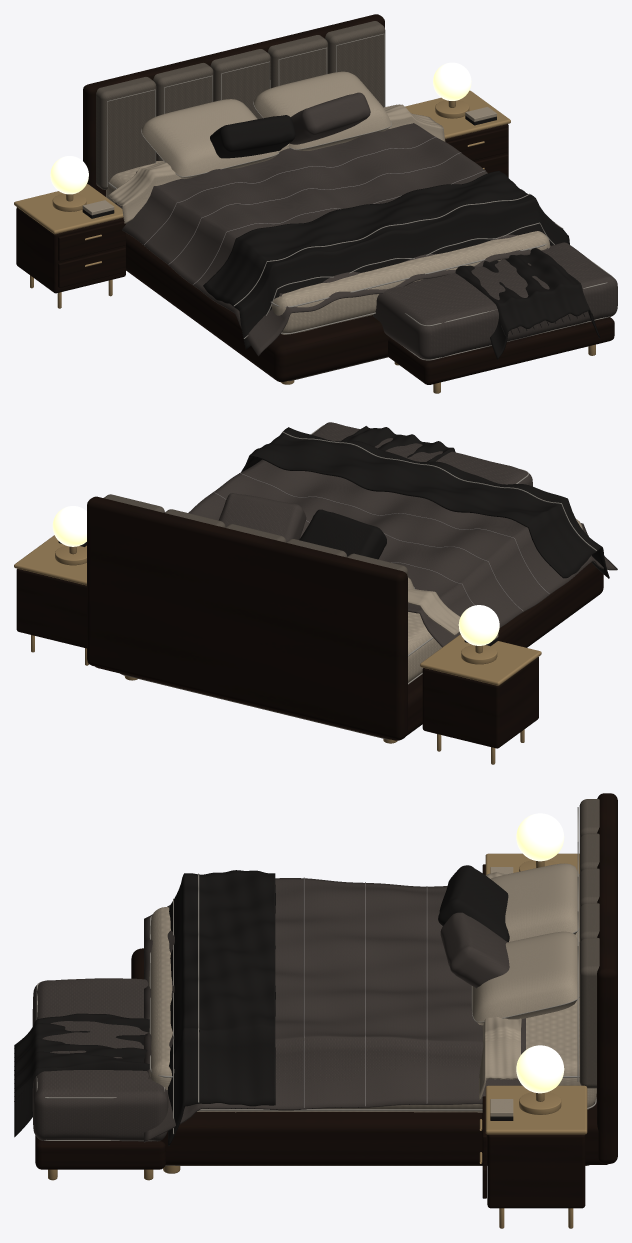
Rendered from premium-bed.glb.
3 views of the same model, one above another, from view 1: azimuth 30°, elevation 25°; view 2: azimuth 150°, elevation 25°; view 3: azimuth 270°, elevation 25° (orthographic). The views are drawn at different scales.
Visible parts, largest first — view 1: Graphite cover with sculpted cross folds, Dark folded knitted runner, Reference foot bench upholstered cushion, Walnut platform, Quilted mattress, Reference foot bench charcoal throw, Large linen pillow 0, Reference foot bench walnut chassis, Vertical tailored headboard panel 0, Large linen pillow 1, Headboard structural backing, Vertical tailored headboard panel 4 (+15 smaller); view 2: Headboard structural backing, Graphite cover with sculpted cross folds, Dark folded knitted runner, Floating bedside walnut cabinet, Walnut platform, Floating bedside walnut cabinet.001, Bedside stone top, Decorative cushion 1, Reference foot bench upholstered cushion, Decorative cushion 0, Bedside stone top.001, Reference foot bench charcoal throw (+7 smaller); view 3: Graphite cover with sculpted cross folds, Dark folded knitted runner, Walnut platform, Reference foot bench upholstered cushion, Quilted mattress, Floating bedside walnut cabinet.001, Headboard structural backing, Large linen pillow 1, Reference foot bench charcoal throw, Large linen pillow 0, Reference foot bench walnut chassis, Bedside stone top.001 (+12 smaller).
Part boxes in pixels (x1=…): Graphite cover with sculpted cross folds: x1=115, y1=123, x2=548, y2=355; Dark folded knitted runner: x1=203, y1=170, x2=569, y2=349; Reference foot bench upholstered cushion: x1=373, y1=242, x2=617, y2=359; Walnut platform: x1=126, y1=233, x2=389, y2=382; Quilted mattress: x1=106, y1=161, x2=550, y2=334; Reference foot bench charcoal throw: x1=455, y1=248, x2=600, y2=359; Large linen pillow 0: x1=141, y1=99, x2=278, y2=178; Reference foot bench walnut chassis: x1=387, y1=317, x2=614, y2=384; Vertical tailored headboard panel 0: x1=96, y1=77, x2=156, y2=189; Large linen pillow 1: x1=254, y1=71, x2=391, y2=150; Headboard structural backing: x1=83, y1=14, x2=384, y2=196; Vertical tailored headboard panel 4: x1=325, y1=21, x2=385, y2=107; Headboard structural backing: x1=87, y1=496, x2=407, y2=740; Graphite cover with sculpted cross folds: x1=188, y1=459, x2=617, y2=647; Dark folded knitted runner: x1=241, y1=427, x2=609, y2=578; Floating bedside walnut cabinet: x1=422, y1=657, x2=538, y2=748; Walnut platform: x1=95, y1=562, x2=603, y2=740; Floating bedside walnut cabinet.001: x1=16, y1=568, x2=86, y2=648; Bedside stone top: x1=420, y1=634, x2=541, y2=685; Decorative cushion 1: x1=218, y1=493, x2=306, y2=541; Reference foot bench upholstered cushion: x1=312, y1=422, x2=532, y2=486; Decorative cushion 0: x1=299, y1=509, x2=386, y2=559; Bedside stone top.001: x1=14, y1=535, x2=86, y2=585; Reference foot bench charcoal throw: x1=341, y1=426, x2=455, y2=461; Graphite cover with sculpted cross folds: x1=144, y1=878, x2=525, y2=1142; Dark folded knitted runner: x1=168, y1=870, x2=275, y2=1145; Walnut platform: x1=131, y1=948, x2=608, y2=1164; Reference foot bench upholstered cushion: x1=32, y1=978, x2=168, y2=1141; Quilted mattress: x1=149, y1=907, x2=596, y2=1112; Floating bedside walnut cabinet.001: x1=487, y1=1134, x2=585, y2=1208; Headboard structural backing: x1=597, y1=793, x2=617, y2=1163; Large linen pillow 1: x1=472, y1=931, x2=579, y2=1025; Reference foot bench charcoal throw: x1=14, y1=1013, x2=149, y2=1137; Large linen pillow 0: x1=491, y1=863, x2=579, y2=941; Reference foot bench walnut chassis: x1=35, y1=1135, x2=165, y2=1169; Bedside stone top.001: x1=485, y1=1085, x2=587, y2=1134.
Bounding box in the file's own units: 3.42 × 1.24 × 3.15.
9 materials, 5 textured.
